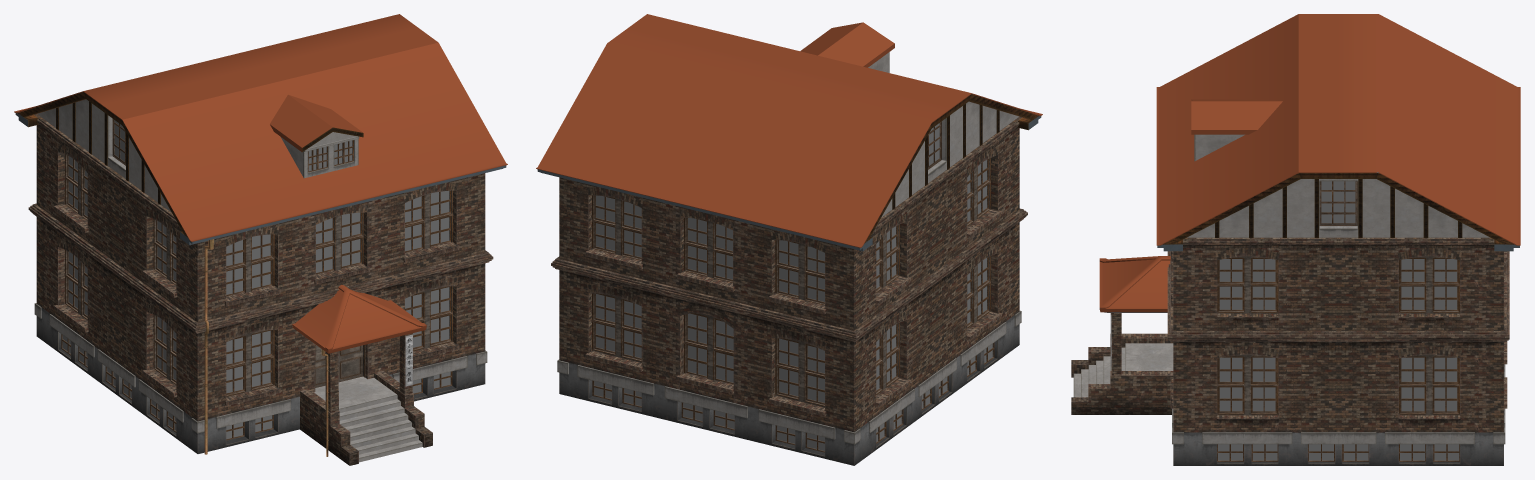
The model's file is NeelBibleSchool.fbx.
The picture shows the model from 3 angles, left to right: view 1: azimuth 30°, elevation 25°; view 2: azimuth 150°, elevation 25°; view 3: azimuth 270°, elevation 25°; orthographic projection. The views are drawn at different scales.
Visible parts, largest first — view 1: NeelSchoolWindowsRoof_Roof, NeelSchoolWalls_Wall; view 2: NeelSchoolWindowsRoof_Roof, NeelSchoolWalls_Wall; view 3: NeelSchoolWindowsRoof_Roof, NeelSchoolWalls_Wall.
Part boxes in pixels (bbox=[...]): NeelSchoolWindowsRoof_Roof: bbox=[14, 14, 507, 456]; NeelSchoolWalls_Wall: bbox=[28, 99, 493, 465]; NeelSchoolWindowsRoof_Roof: bbox=[536, 14, 1042, 452]; NeelSchoolWalls_Wall: bbox=[551, 52, 1027, 465]; NeelSchoolWindowsRoof_Roof: bbox=[1099, 14, 1520, 461]; NeelSchoolWalls_Wall: bbox=[1071, 134, 1509, 465].
Bounding box in the file's own units: 1154 × 1042 × 1386.
